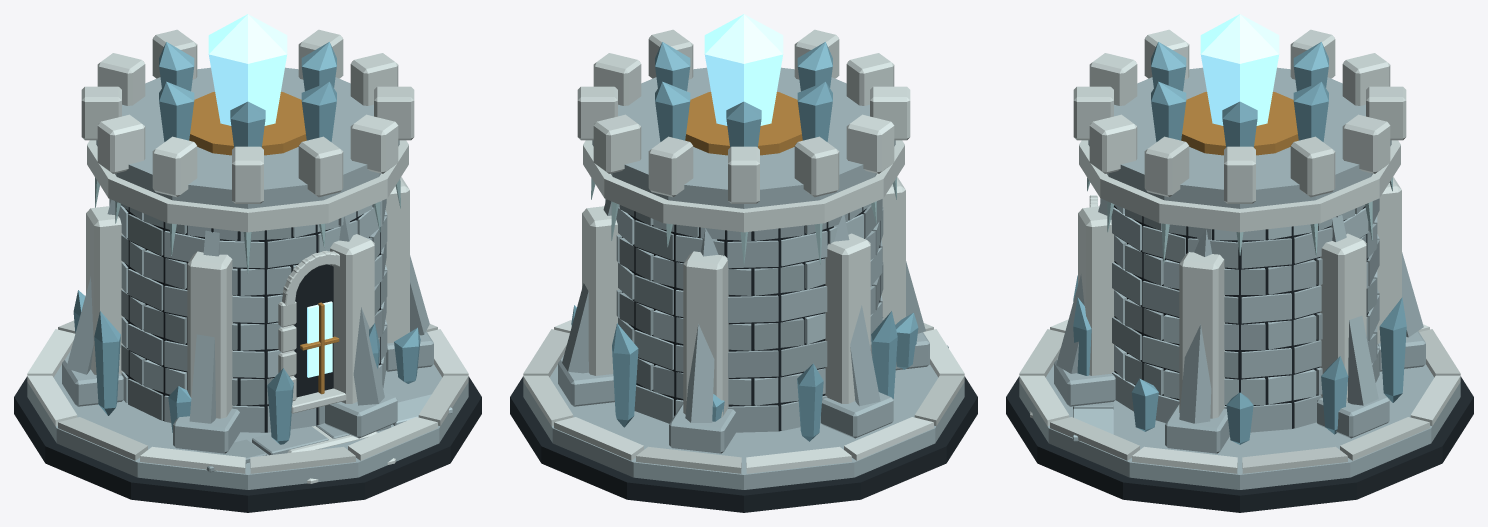
Rendered from frost__base__L01.glb.
3 renders of one model, left to right at view 1: azimuth 30°, elevation 25°; view 2: azimuth 150°, elevation 25°; view 3: azimuth 270°, elevation 25°, orthographic.
Parts seen in each view (by area): view 1: structure, weapon; view 2: structure, weapon; view 3: structure, weapon.
Boxes of the visible parts, x1=… form: structure: x1=14, y1=29, x2=481, y2=512; weapon: x1=159, y1=14, x2=336, y2=155; structure: x1=510, y1=29, x2=977, y2=512; weapon: x1=655, y1=14, x2=832, y2=155; structure: x1=1006, y1=29, x2=1473, y2=512; weapon: x1=1151, y1=14, x2=1328, y2=155.
Size of the model in its own units: 0.8624 by 0.814 by 0.8624.
